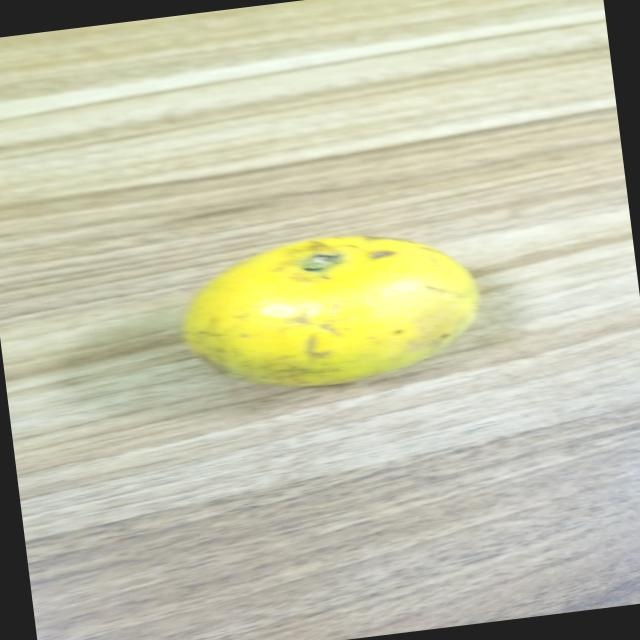agrume: (157, 213, 498, 415)
